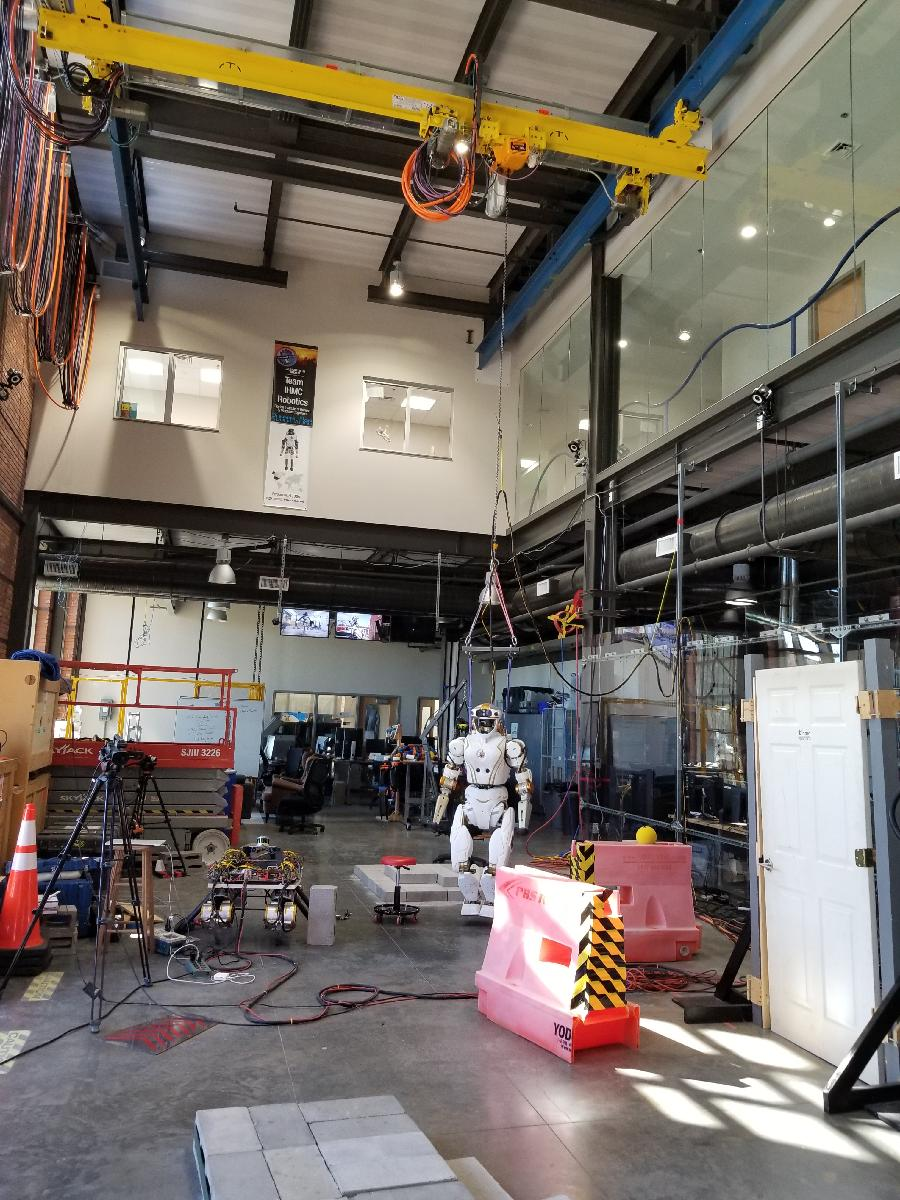door: (747, 660, 892, 1097)
doorHandle: (759, 858, 776, 872)
